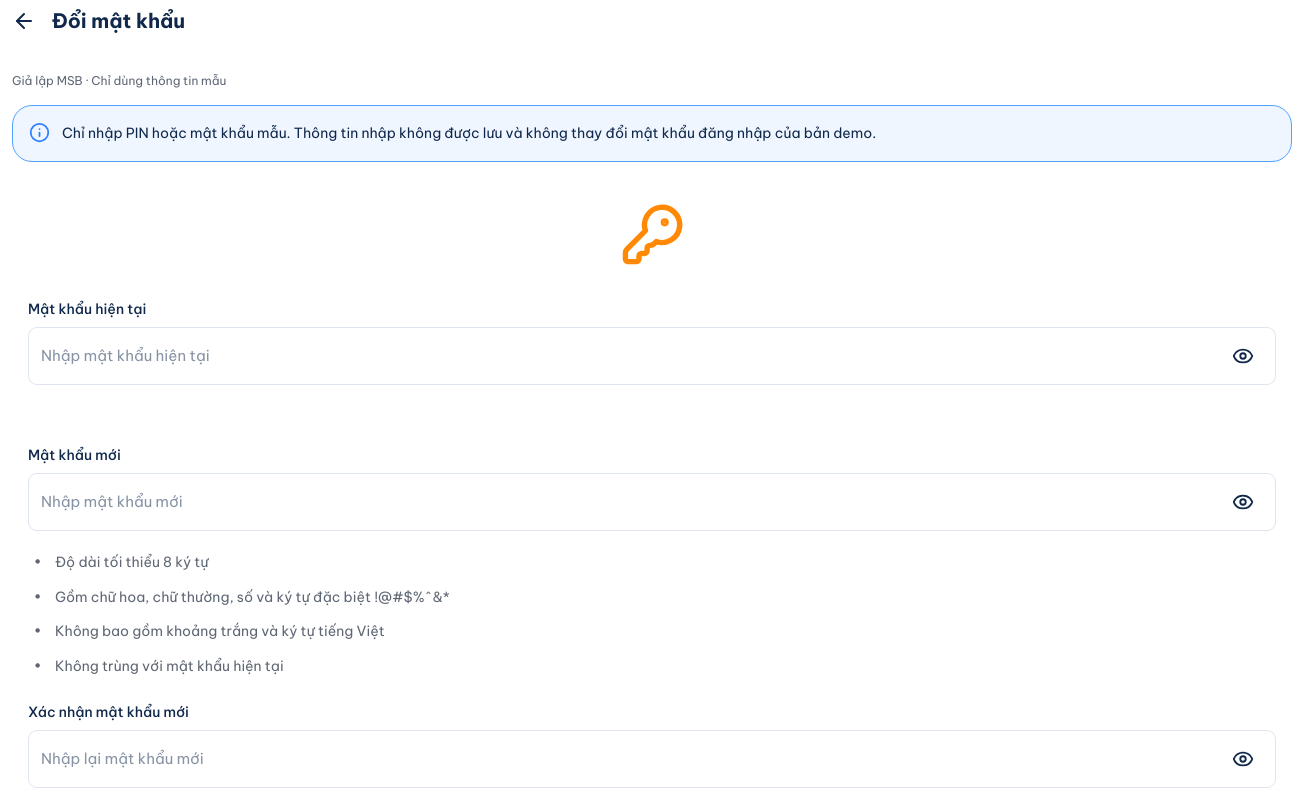
Test: MSB settings simulation › requires password complexity and matching confirmation
Type "sample-current" into the password field labelled "Mật khẩu hiện tại" at x=632, y=356, box left=41, top=344, right=1223, bottom=367
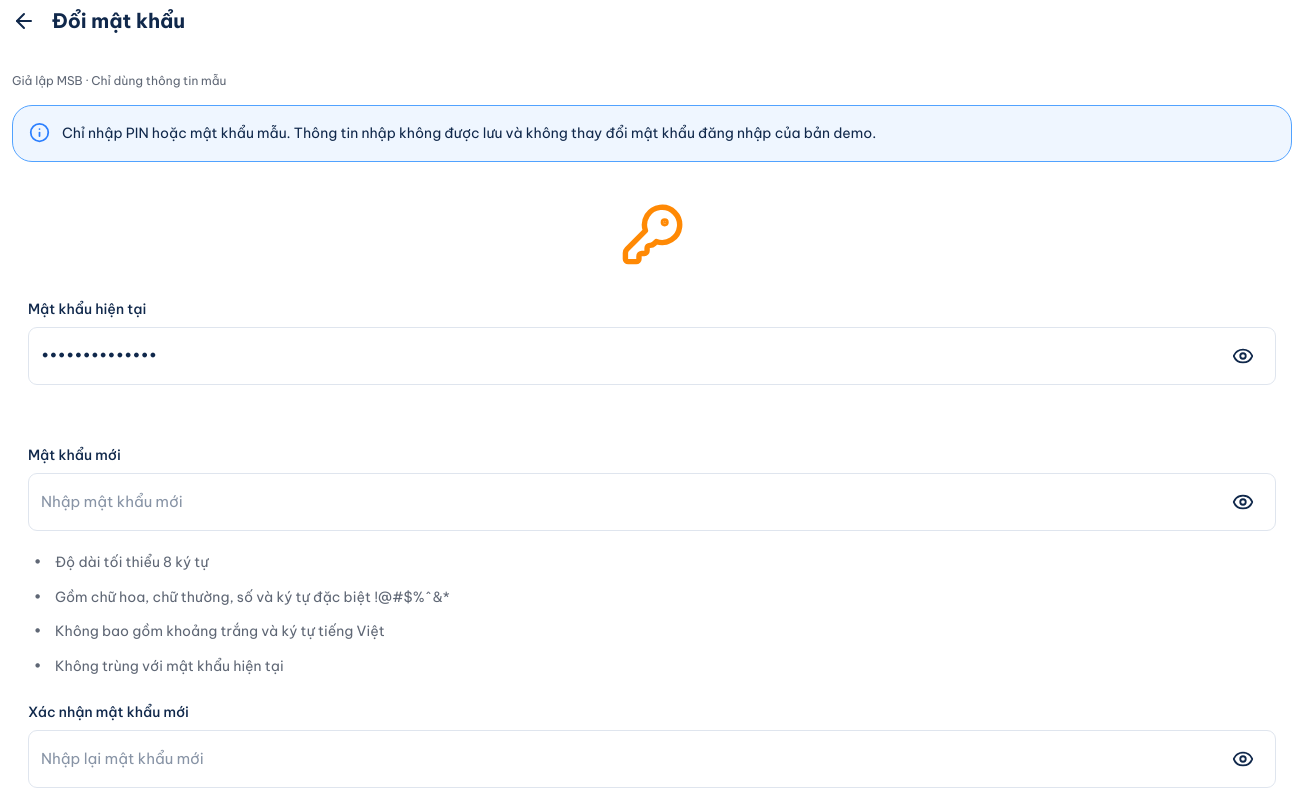
Type "weak" into the password field labelled "Mật khẩu mới" at x=632, y=502, box left=41, top=490, right=1223, bottom=513
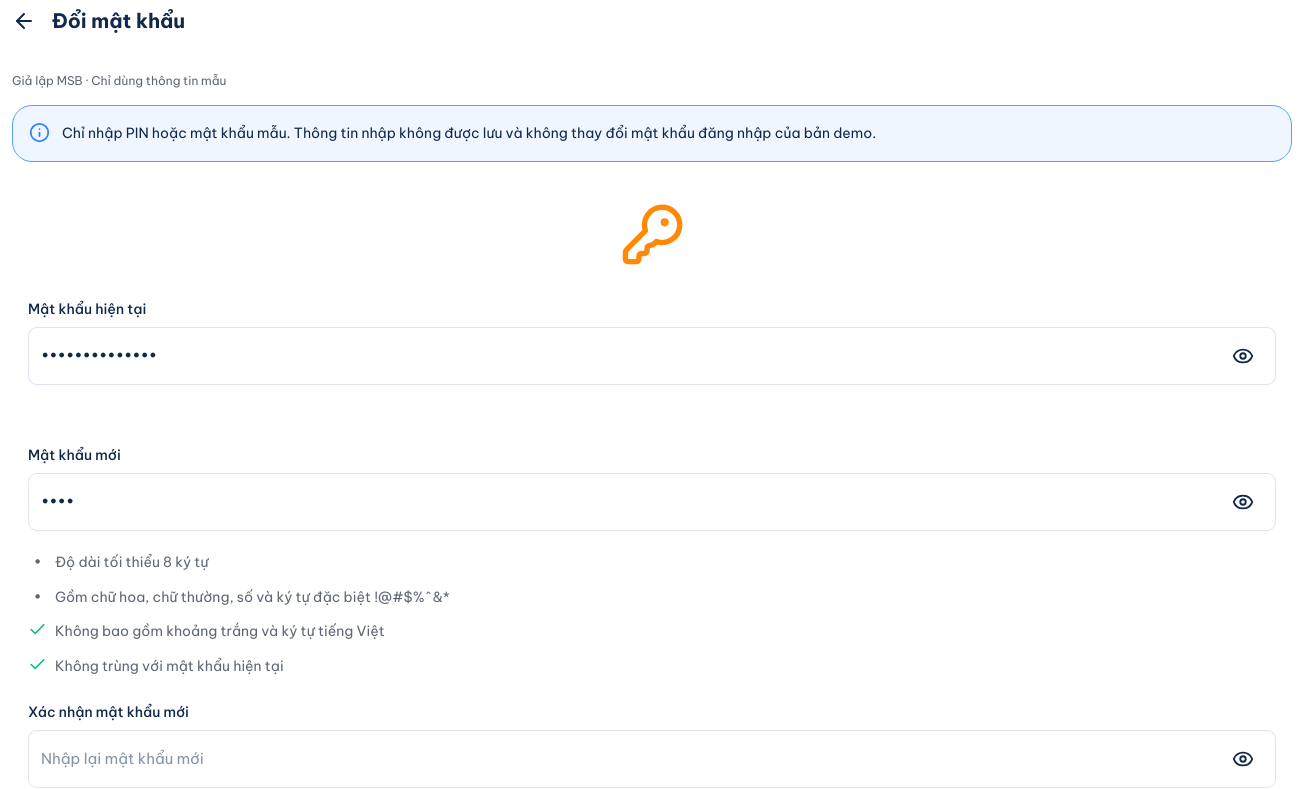
Type "weak" into the password field labelled "Xác nhận mật khẩu mới" at x=632, y=759, box left=41, top=748, right=1223, bottom=770
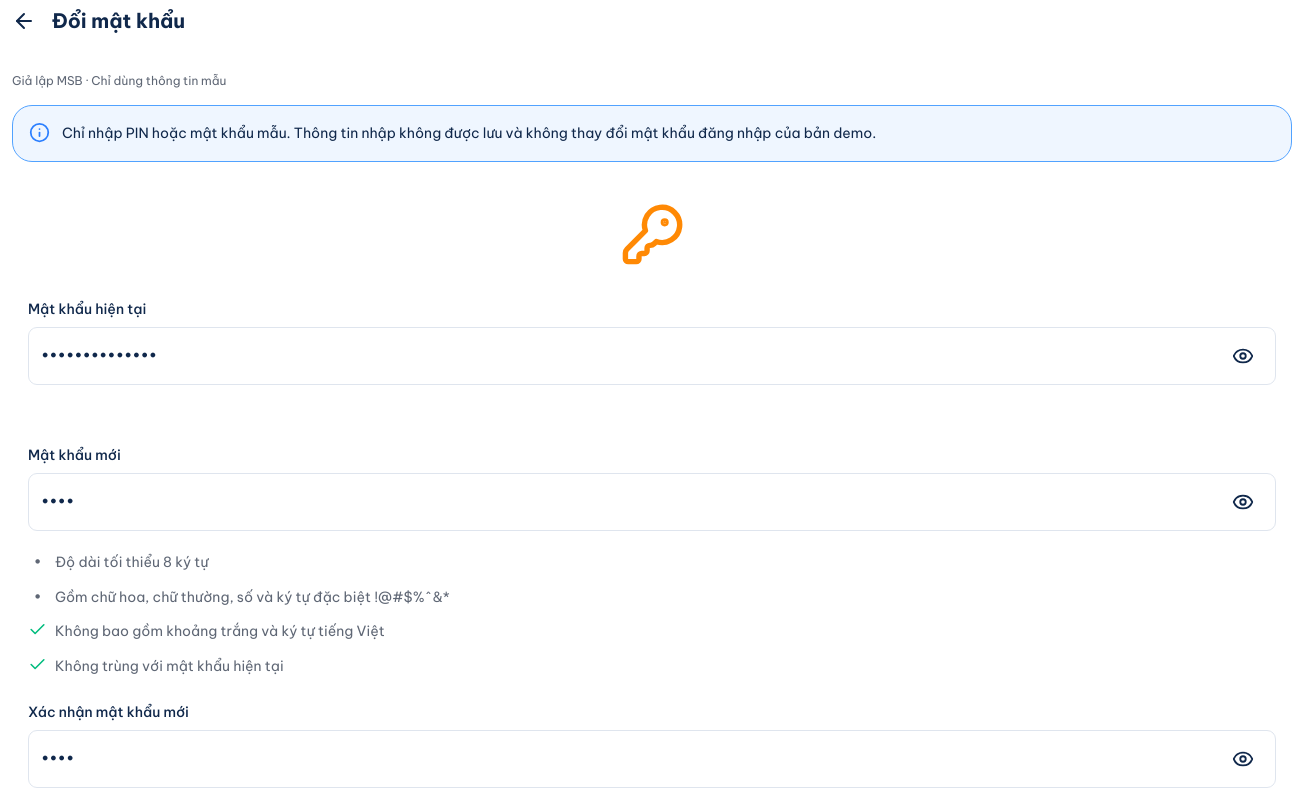
Type "Sample89!" into the password field labelled "Mật khẩu mới" at x=632, y=502, box left=41, top=490, right=1223, bottom=513
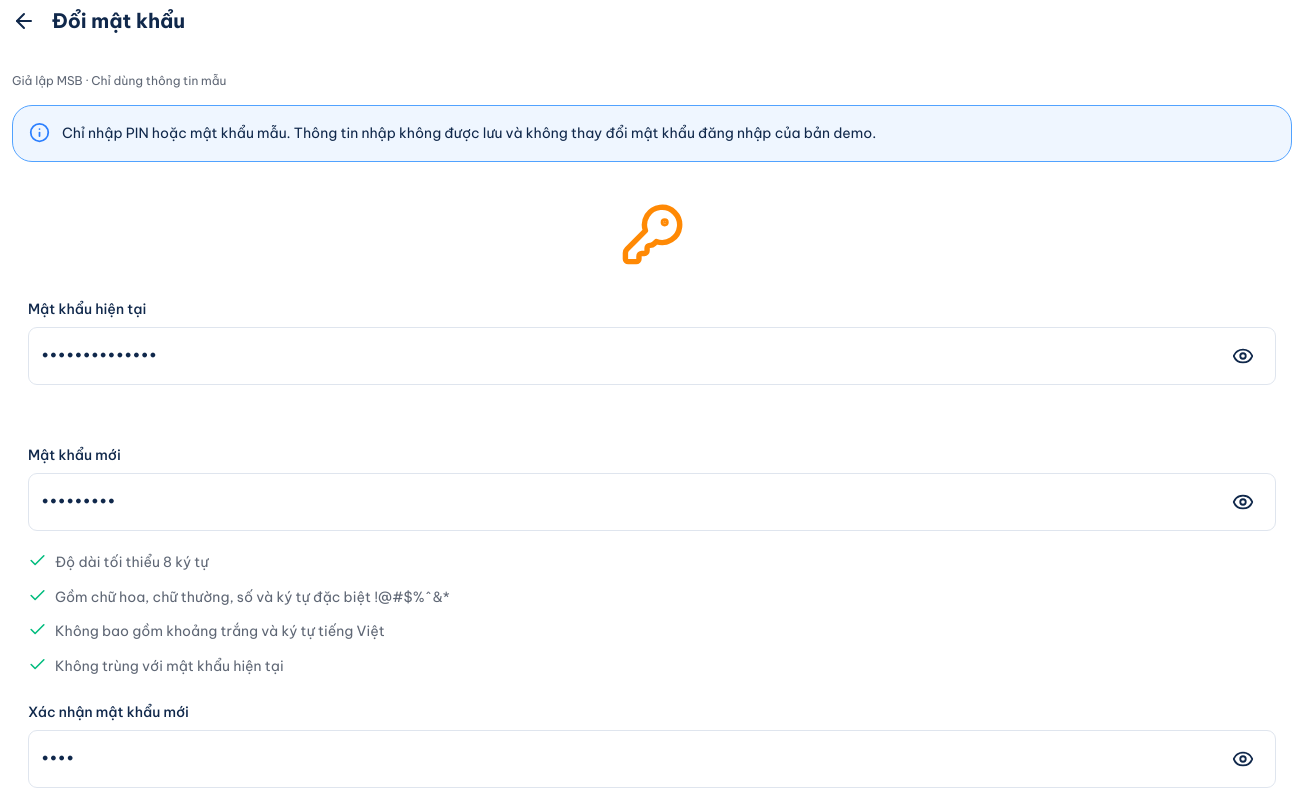
Type "Sample89!" into the password field labelled "Xác nhận mật khẩu mới" at x=632, y=759, box left=41, top=748, right=1223, bottom=770
(page scrolled)
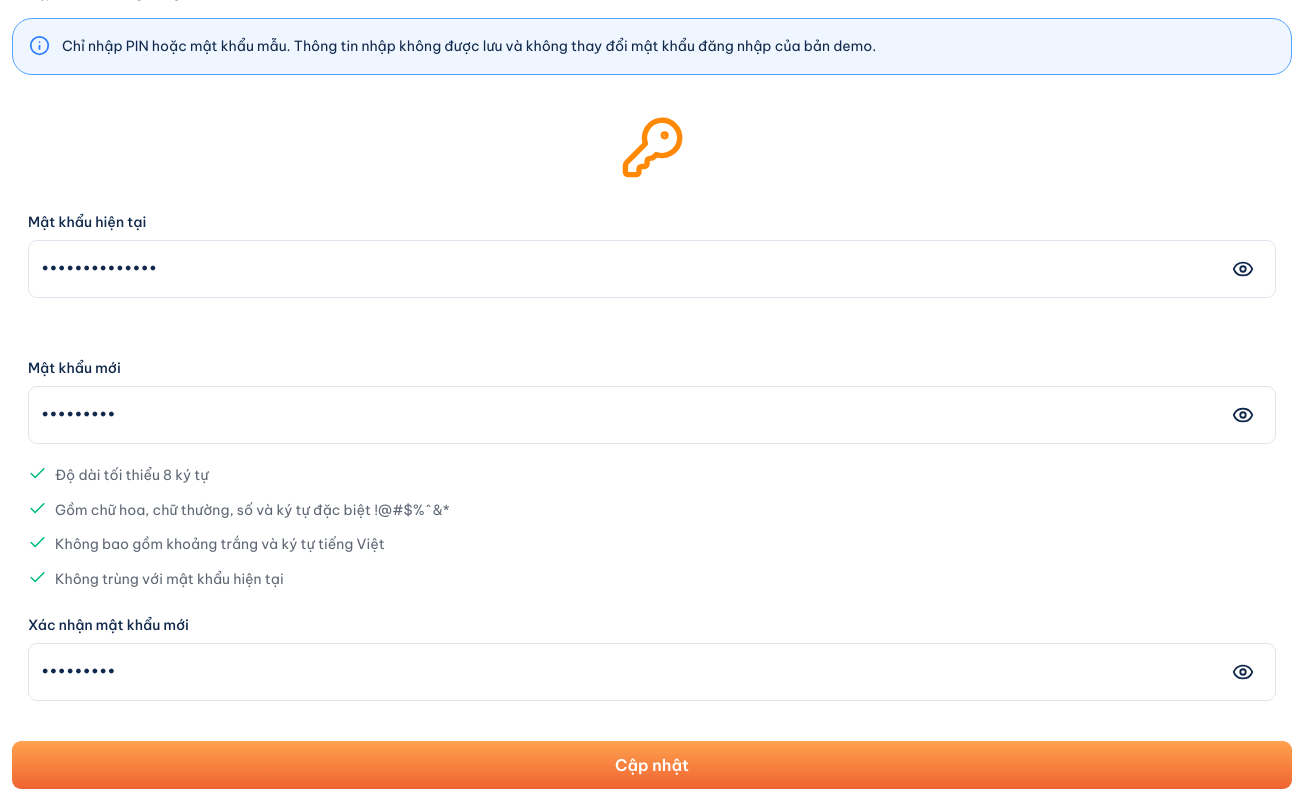
Expected: the button "Cập nhật" is enabled, left=12, top=741, right=1292, bottom=788
